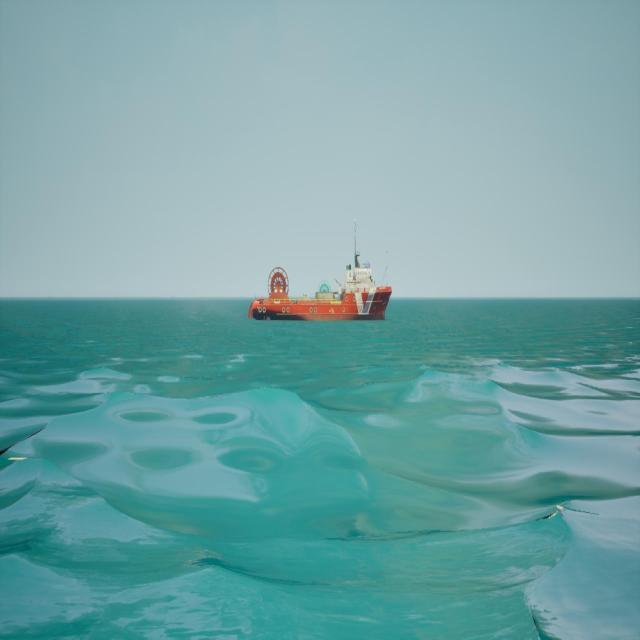tug boat: (249, 223, 395, 323)
